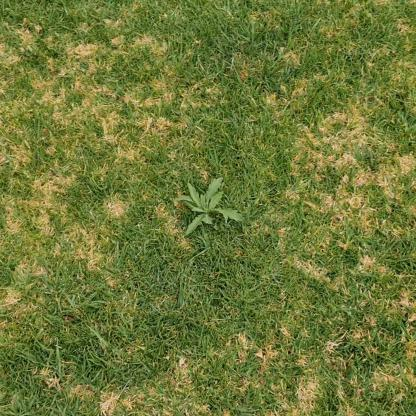Weeds: (175, 178, 245, 236)
